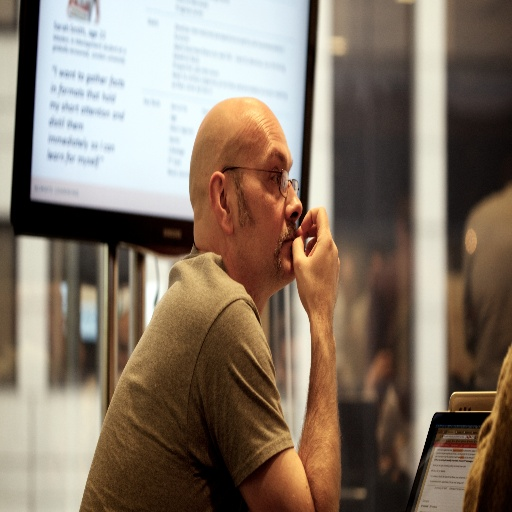hand: (284, 203, 339, 325)
